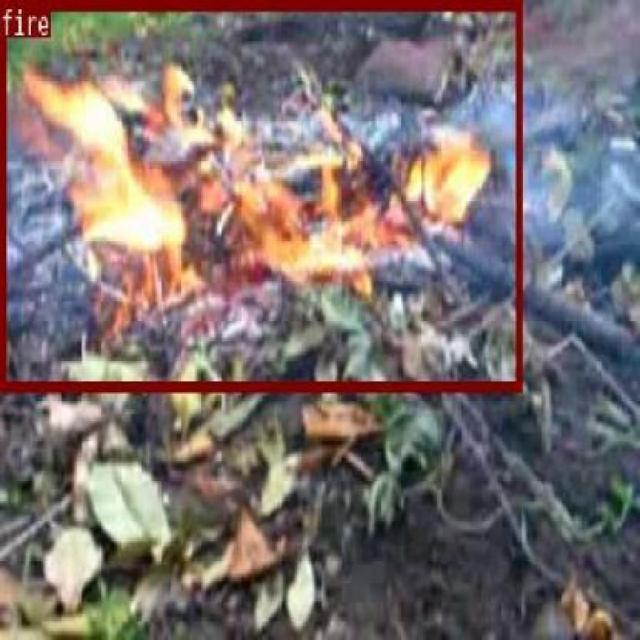Fire: (23, 55, 496, 312)
